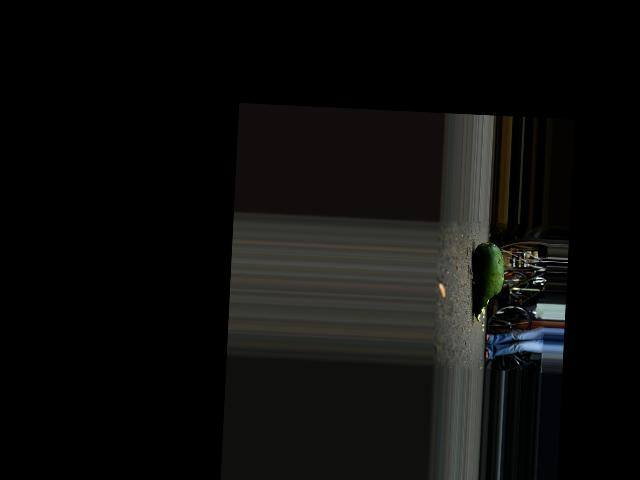cucumber: (470, 241, 505, 324)
